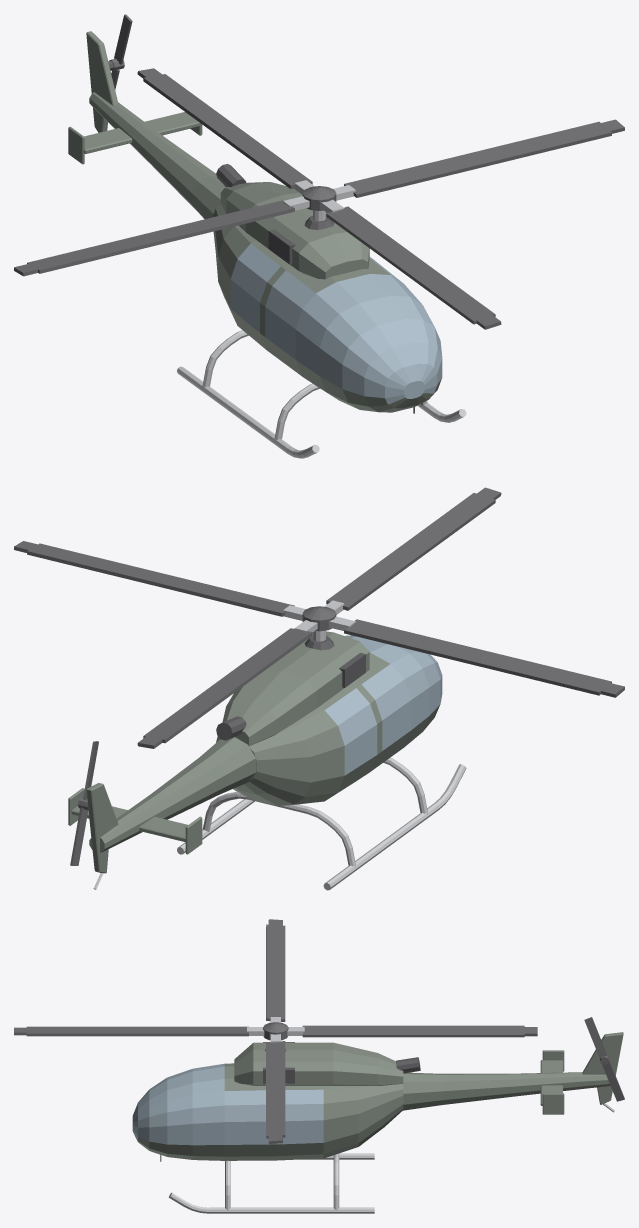
File: Heli.fbx
3 renders of one model, top to bottom at view 1: azimuth 30°, elevation 25°; view 2: azimuth 150°, elevation 25°; view 3: azimuth 270°, elevation 25°, orthographic. The views are drawn at different scales.
Visible parts, largest first — view 1: Body, Rotor, TailRotor; view 2: Body, Rotor, TailRotor; view 3: Body, Rotor, TailRotor.
Part boxes in pixels (x1,y1,x2,y2): Body: (68,31,466,458); Rotor: (14,68,624,329); TailRotor: (109,14,132,89); Body: (68,630,466,890); Rotor: (14,487,624,748); TailRotor: (70,741,98,865); Body: (132,1032,623,1213); Rotor: (14,919,537,1143); TailRotor: (584,1017,624,1101).
Bounding box in the file's own units: 8.2 × 3.03 × 9.57.
